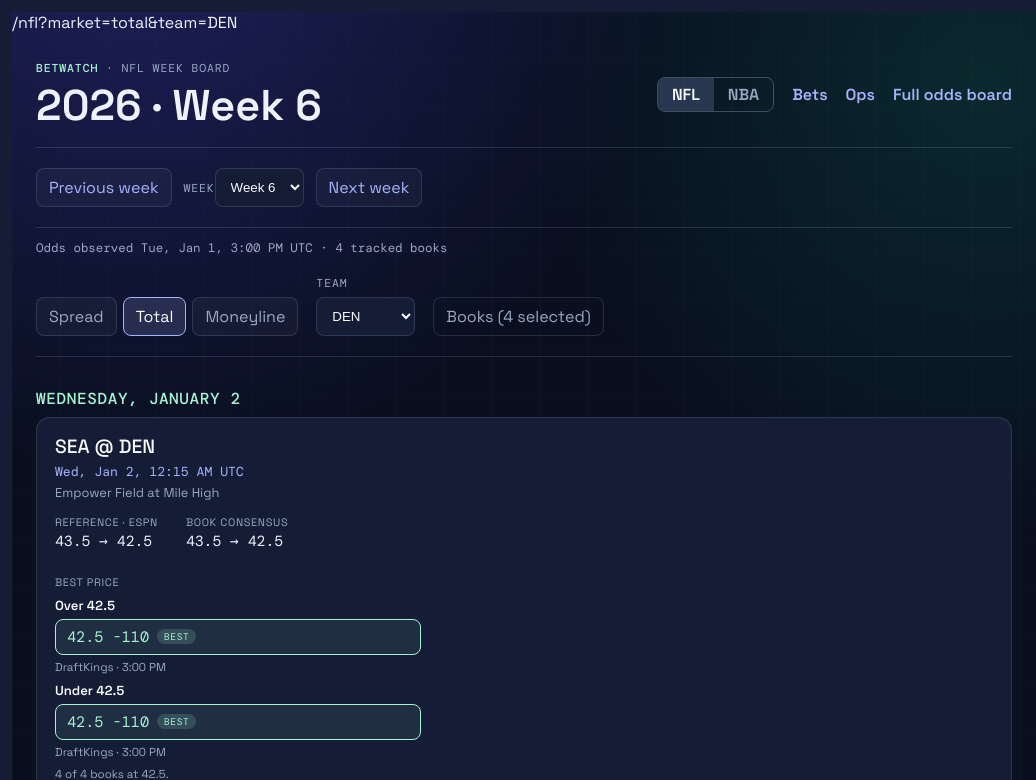
Test: SlatePage week board › switches market in the URL and restores it from the URL
Expected: the tab "Total" is shown, [123, 297, 186, 336]
Expected: the button with aria-label "Log DraftKings Over 42.5 -110" is shown, [55, 619, 421, 655]
Click the tab "Moneyline".
click(245, 316)  # box [192, 297, 298, 336]
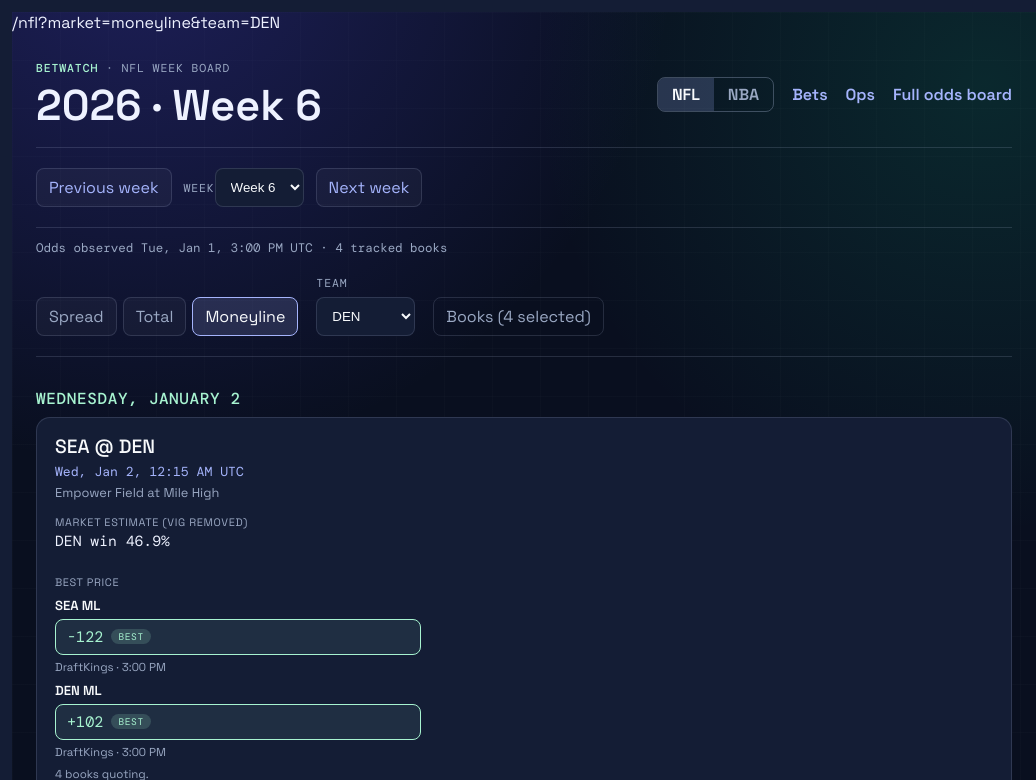
Expected: the text named "location" shows "team=DEN", [12, 12, 280, 33]
Now the text named "location" shows "market=moneyline", box [12, 12, 280, 33]
Click the tab "Spread".
click(76, 316)  # box [36, 297, 117, 336]
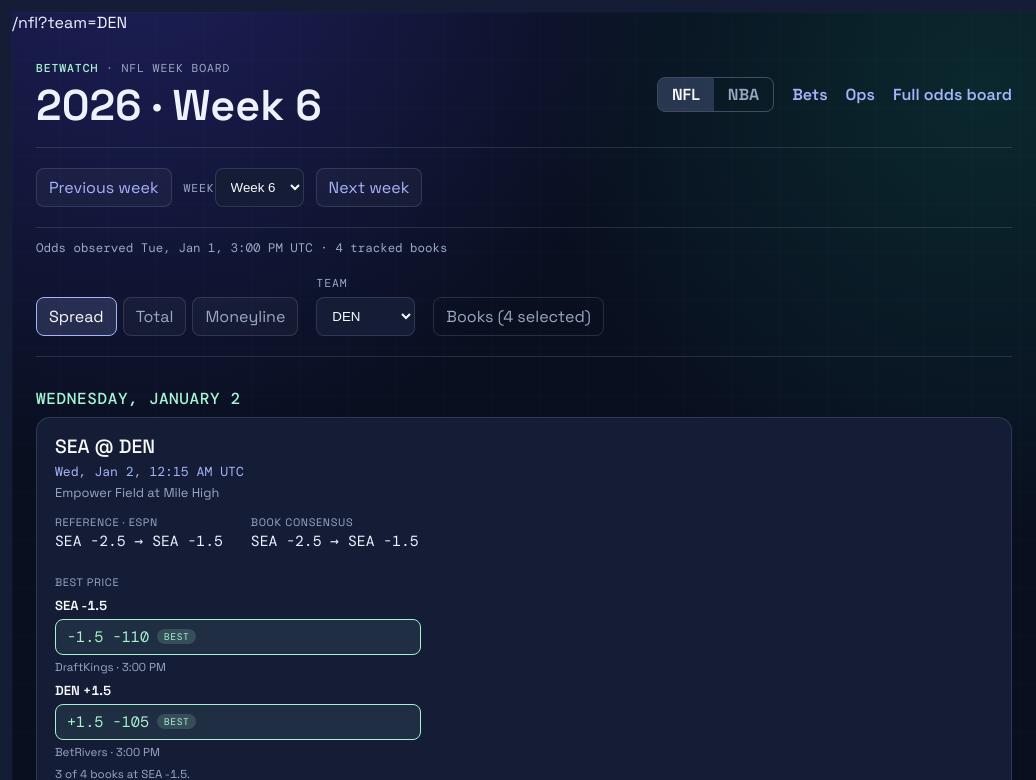
Now the text named "location" no longer shows "market=", box [12, 12, 127, 33]
